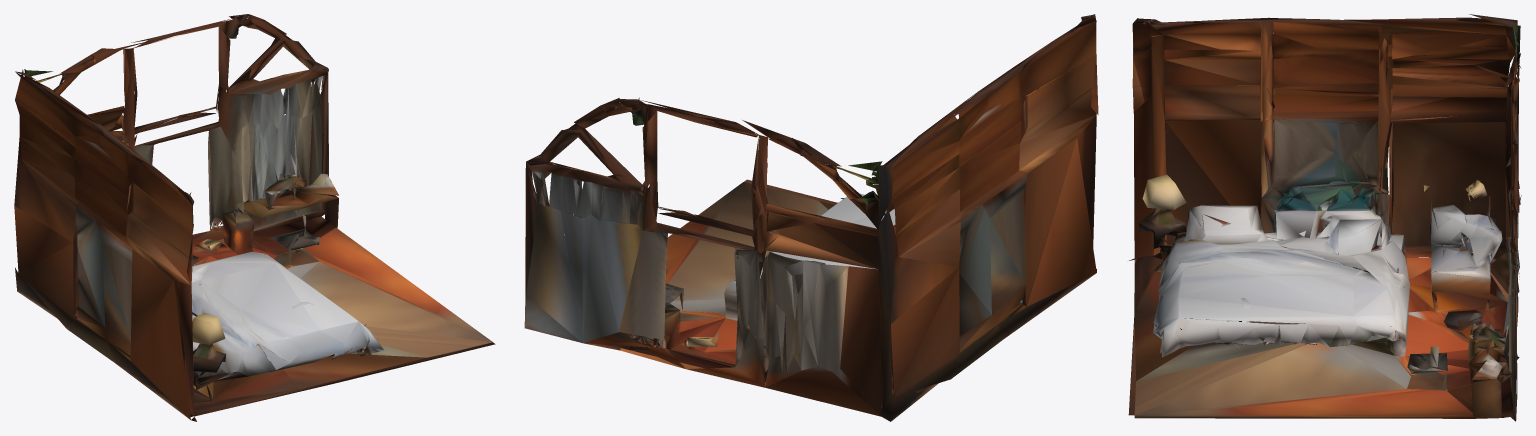
The model's file is World4c51a835cd.glb.
3 views of the same model, side by side, from view 1: azimuth 30°, elevation 25°; view 2: azimuth 150°, elevation 25°; view 3: azimuth 270°, elevation 25° (orthographic). The views are drawn at different scales.
Visible parts, largest first — view 1: World4c51a835cd; view 2: World4c51a835cd; view 3: World4c51a835cd.
Part boxes in pixels (x1,y1,x2,y2): World4c51a835cd: (14,14,495,421); World4c51a835cd: (524,14,1098,421); World4c51a835cd: (1128,14,1521,421).
Bounding box in the file's own units: 7.03 × 4.84 × 6.99.
Materials: 1 (1 with a texture image).
